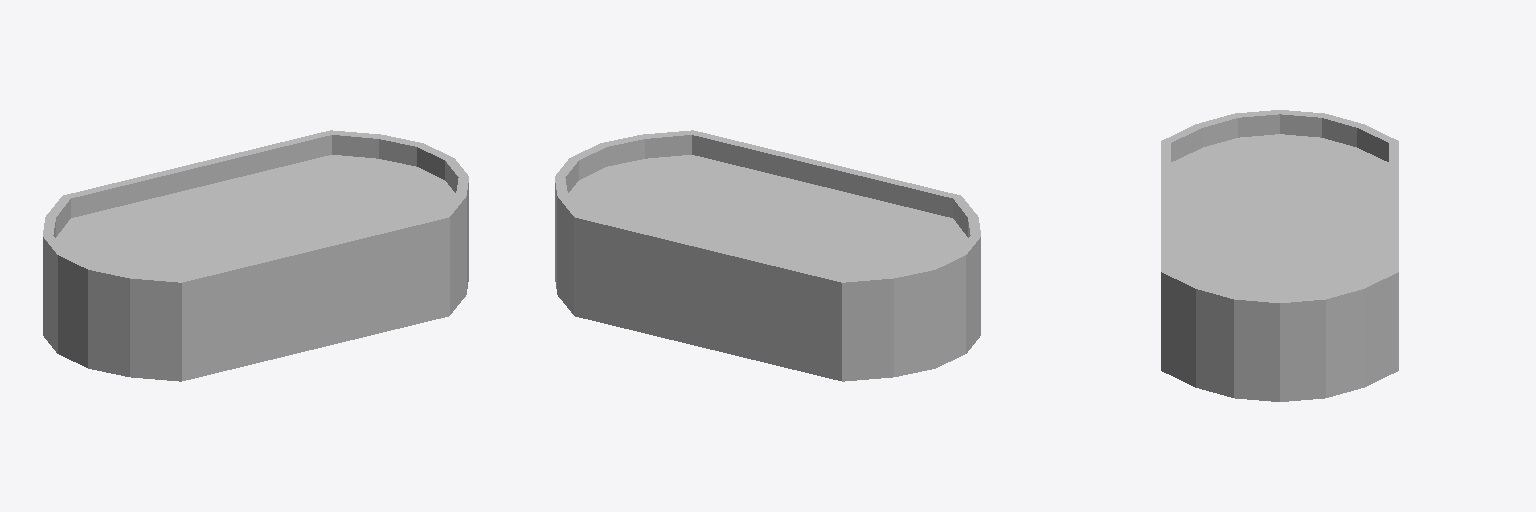
The model's file is Lane Guide 2.obj.
The picture shows the model from 3 angles: view 1: azimuth 30°, elevation 25°; view 2: azimuth 150°, elevation 25°; view 3: azimuth 270°, elevation 25°; orthographic projection.
Parts seen in each view (by area): view 1: Cylinder; view 2: Cylinder; view 3: Cylinder.
Boxes of the visible parts, <box> form: Cylinder: <box>43,130,468,381</box>; Cylinder: <box>555,130,980,381</box>; Cylinder: <box>1161,110,1398,401</box>.
Size of the model in its own units: 2.1 by 0.5 by 1.09.